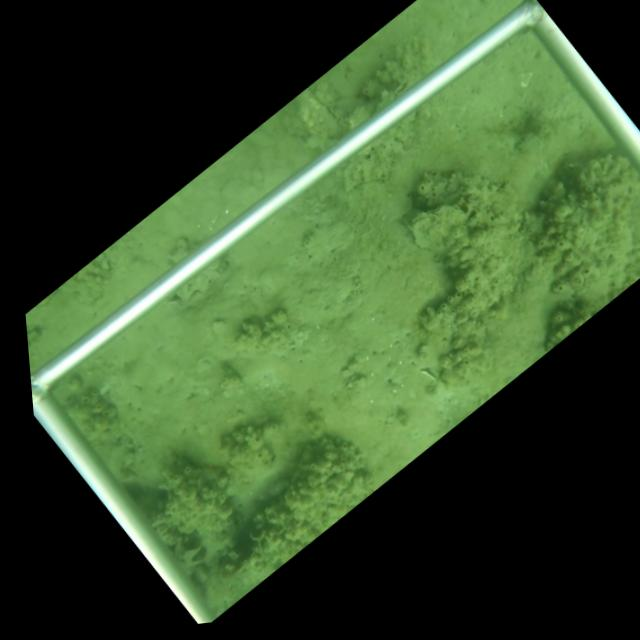Oyster-Closed: (410, 201, 469, 252), (296, 88, 345, 142)
Oyster-Indeterminate: (417, 366, 439, 383)
